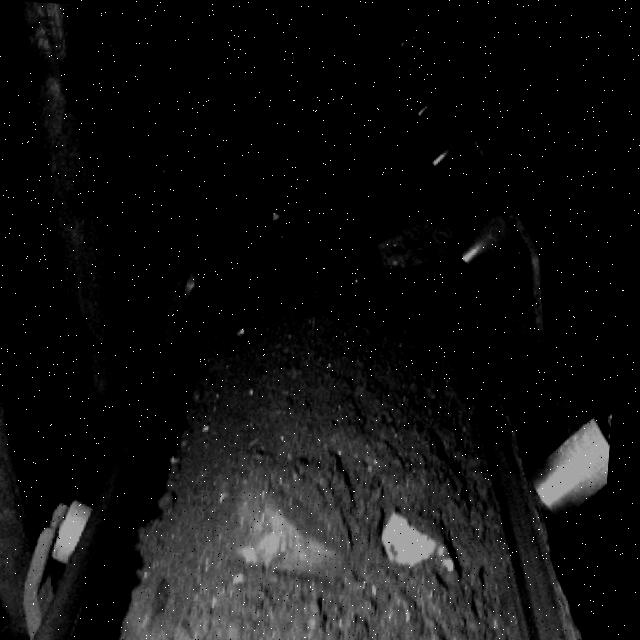large_sized_coal: (250, 459, 360, 564), (376, 197, 470, 263), (390, 503, 465, 563)
